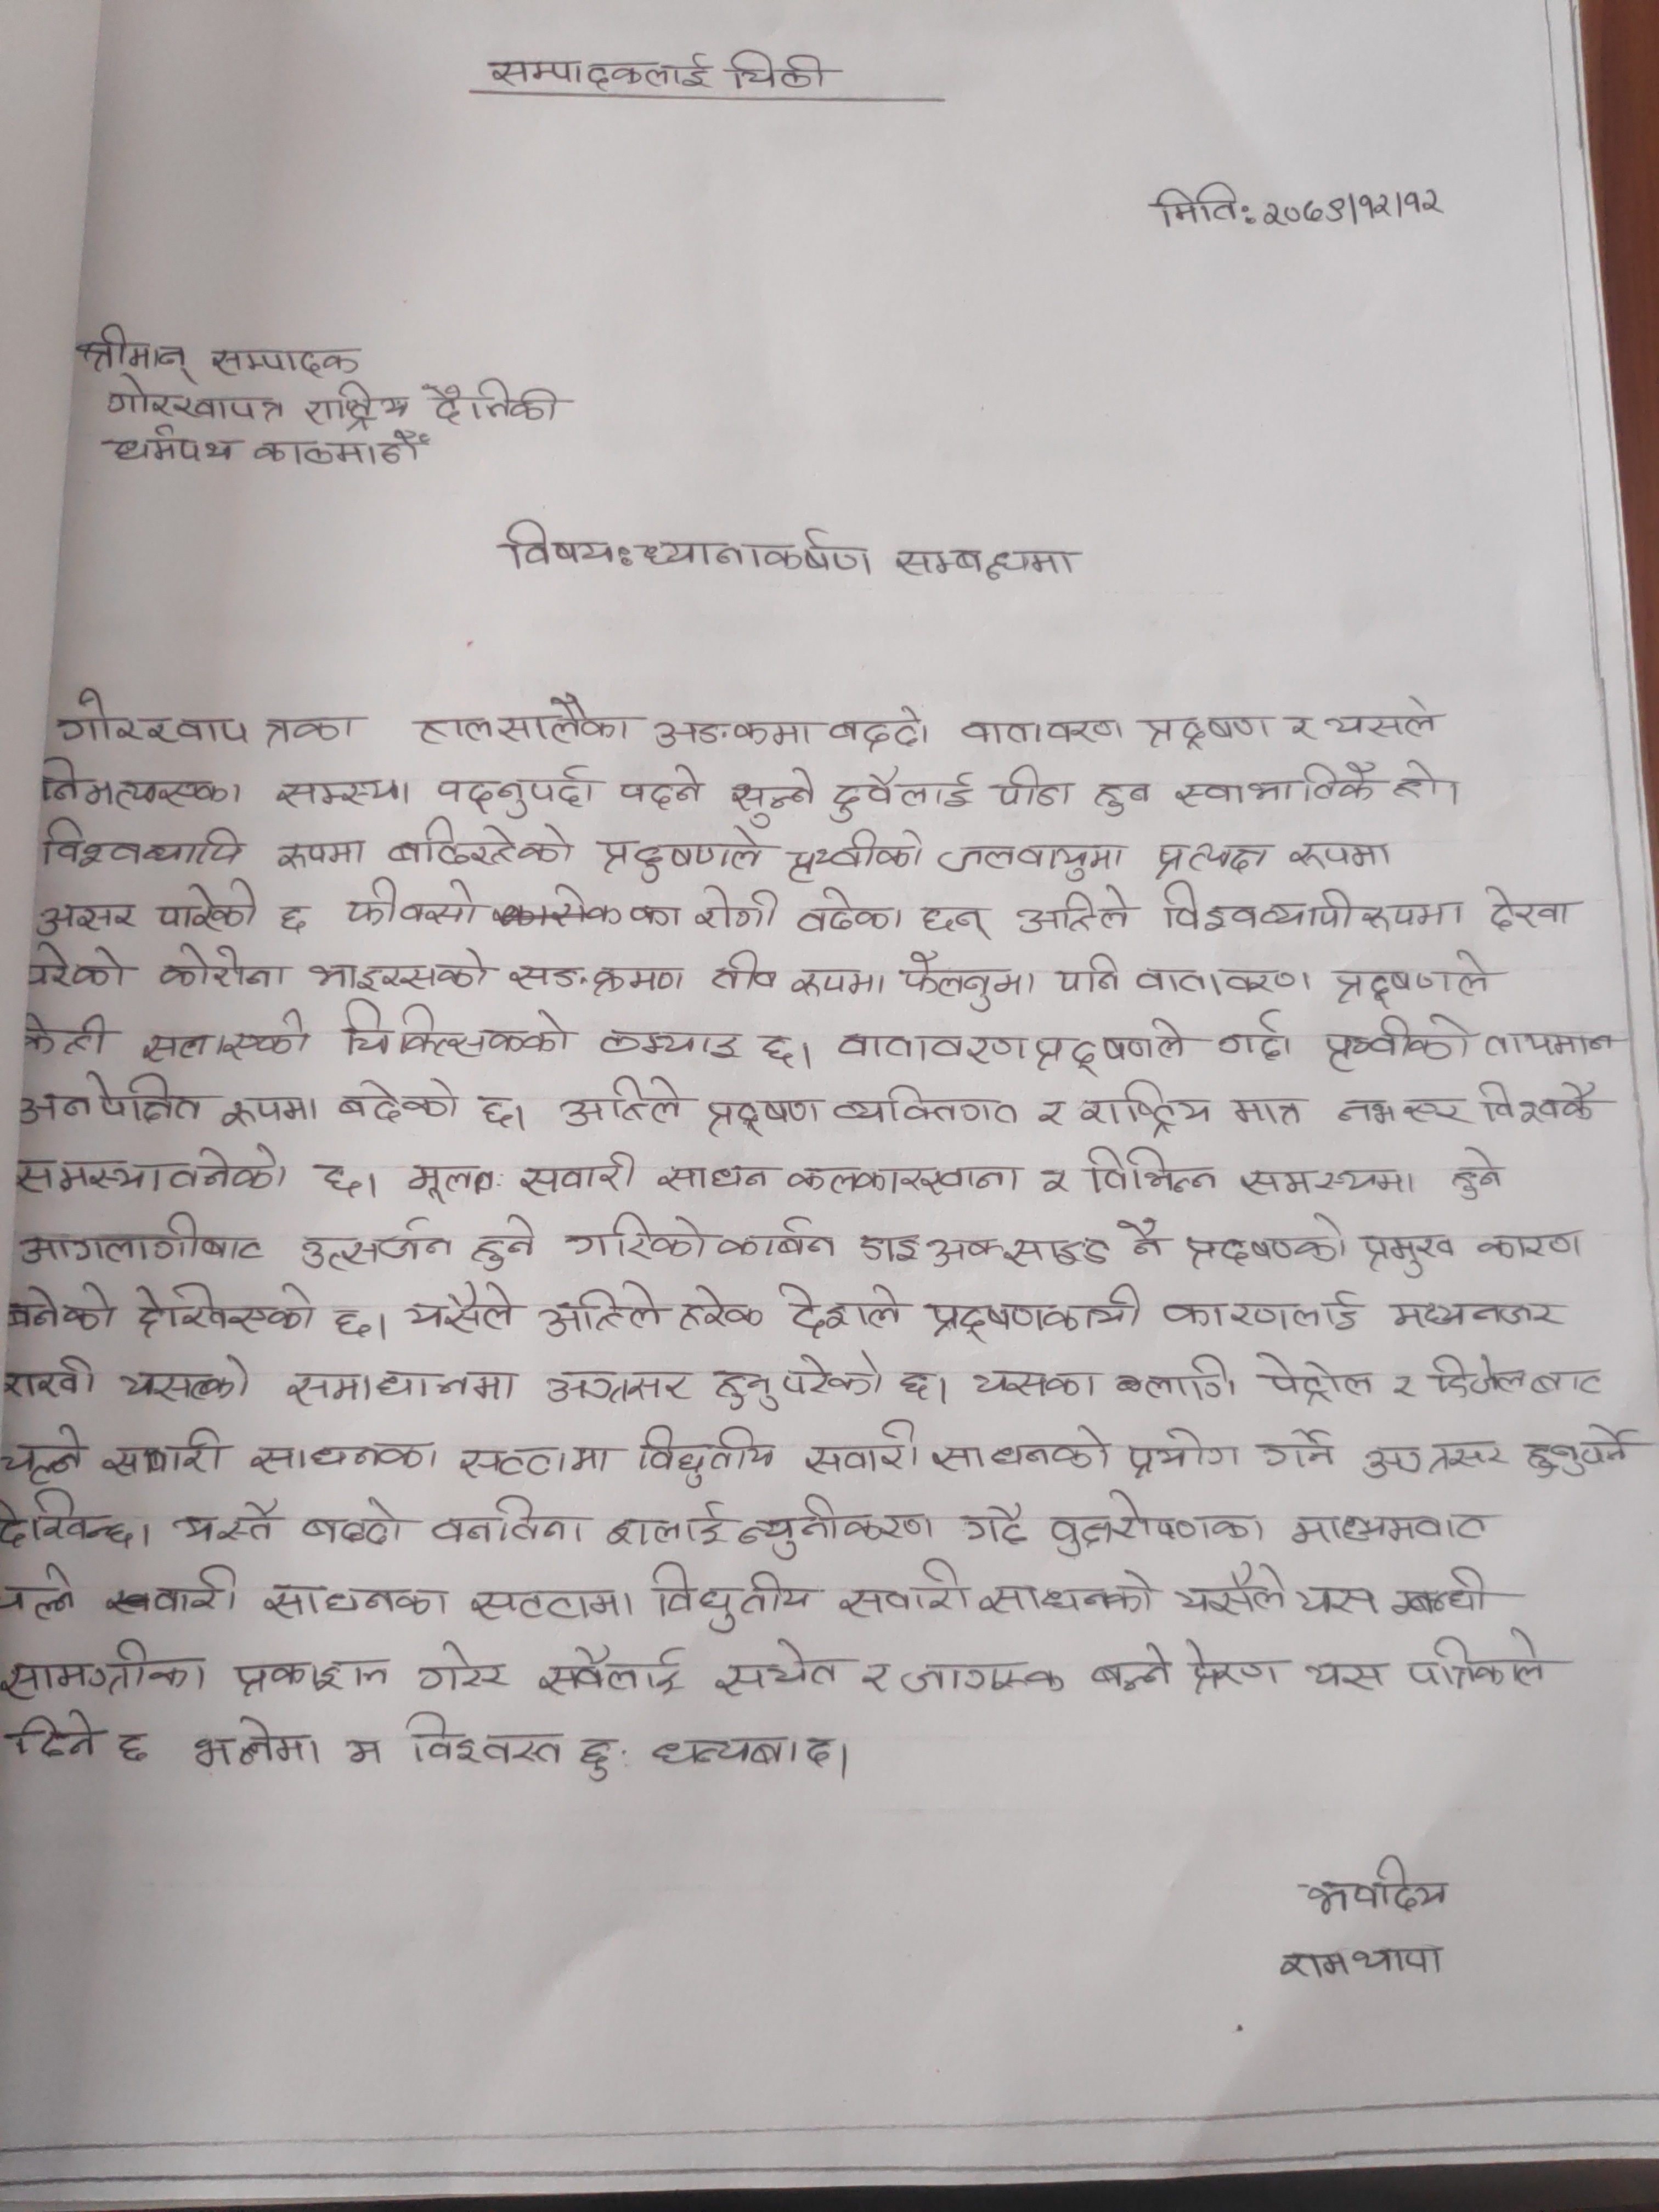text: (828, 1014, 1194, 1073), (836, 1555, 1159, 1618), (56, 686, 366, 751), (1157, 874, 1467, 932), (12, 1209, 270, 1270), (10, 1141, 291, 1197), (920, 1278, 1148, 1346), (338, 998, 577, 1062), (1049, 1489, 1272, 1557), (0, 1637, 207, 1703), (411, 690, 636, 751), (641, 523, 875, 580), (735, 1494, 938, 1559), (31, 752, 242, 813), (647, 1559, 816, 1634), (16, 1066, 206, 1130), (129, 1277, 319, 1341), (711, 1348, 889, 1416), (484, 45, 716, 96), (854, 1228, 1114, 1271), (38, 815, 247, 869), (927, 1420, 1114, 1479), (1297, 1851, 1462, 1918), (1175, 1209, 1354, 1270), (828, 1080, 1028, 1134), (1171, 756, 1377, 808), (275, 1366, 519, 1409), (1161, 1287, 1363, 1339), (784, 1157, 1026, 1200), (1403, 1627, 1553, 1696), (397, 1709, 568, 1770), (594, 824, 767, 883), (141, 1005, 314, 1064), (636, 1418, 779, 1489), (1330, 948, 1497, 1008), (432, 759, 598, 820), (101, 371, 288, 425), (1427, 1350, 1608, 1404), (1324, 1012, 1474, 1076), (295, 1216, 457, 1275), (387, 819, 577, 869), (307, 941, 493, 991), (894, 948, 1039, 1012), (1262, 181, 1445, 232), (1288, 1503, 1490, 1548), (429, 1493, 589, 1548), (1384, 1292, 1574, 1339), (0, 1487, 141, 1550), (261, 1578, 450, 1625), (246, 1432, 441, 1477), (830, 766, 974, 827), (648, 1726, 835, 1773), (192, 1714, 328, 1778), (708, 1637, 840, 1702), (538, 1641, 687, 1698), (538, 1277, 666, 1343), (1084, 1139, 1222, 1200), (887, 543, 1087, 585), (784, 824, 925, 883), (934, 838, 1126, 881), (775, 1275, 904, 1339), (1077, 1078, 1215, 1137), (1270, 1939, 1450, 1984), (798, 1416, 924, 1480), (469, 1580, 638, 1627), (1251, 1348, 1378, 1409), (1127, 956, 1312, 998), (418, 374, 561, 428), (899, 1653, 1066, 1698), (558, 1212, 708, 1263), (559, 1073, 687, 1132), (1520, 1423, 1642, 1484), (117, 1353, 254, 1407), (251, 432, 429, 474), (345, 876, 481, 930), (153, 939, 289, 993), (232, 1655, 394, 1700), (1175, 1564, 1290, 1627), (73, 320, 200, 376), (650, 712, 812, 756), (99, 1425, 230, 1479), (504, 960, 695, 996), (1014, 883, 1134, 941), (1473, 1075, 1608, 1125), (957, 711, 1124, 751), (209, 340, 368, 381), (455, 1439, 613, 1480), (336, 1073, 462, 1125), (498, 516, 615, 571), (1316, 691, 1443, 742), (401, 1278, 519, 1332), (606, 1498, 725, 1552), (699, 1090, 824, 1141), (300, 1493, 410, 1550), (1229, 1165, 1419, 1198), (1124, 1426, 1244, 1479), (1180, 1637, 1283, 1698), (540, 1367, 690, 1409), (514, 1148, 638, 1198), (716, 1211, 840, 1261), (725, 763, 816, 831), (1363, 1437, 1509, 1479), (1391, 1561, 1490, 1622), (7, 1285, 122, 1338), (173, 1498, 288, 1550), (1129, 711, 1279, 751), (1330, 1089, 1473, 1130), (789, 885, 906, 935), (598, 1024, 744, 1064), (7, 1705, 105, 1764), (19, 941, 132, 991), (2, 1421, 87, 1487), (152, 880, 263, 930), (413, 1639, 511, 1696), (1143, 1348, 1237, 1407), (824, 704, 934, 754), (152, 1559, 242, 1620), (17, 1005, 113, 1062), (1474, 881, 1579, 934), (1358, 1228, 1464, 1278), (105, 425, 242, 463), (305, 381, 413, 430), (728, 44, 830, 94), (274, 773, 413, 810), (1091, 1637, 1175, 1698), (1483, 1024, 1622, 1059), (964, 1364, 1103, 1399), (3, 1350, 99, 1400), (1150, 179, 1243, 232), (31, 897, 141, 941), (0, 1561, 78, 1622), (615, 759, 706, 812), (694, 880, 782, 932), (1150, 840, 1270, 878), (213, 1090, 322, 1132), (676, 1282, 767, 1332), (404, 1160, 498, 1207), (1213, 1008, 1295, 1062), (655, 1157, 770, 1195), (465, 1214, 544, 1270), (993, 763, 1073, 817), (1473, 1230, 1588, 1266), (1258, 1423, 1344, 1472), (1293, 1578, 1384, 1622), (1445, 1143, 1511, 1202), (784, 961, 885, 1000), (706, 946, 784, 995), (1227, 1089, 1309, 1134), (1284, 840, 1394, 871), (272, 834, 369, 869), (1054, 951, 1124, 1000), (958, 1505, 1033, 1550), (1300, 1658, 1389, 1695), (918, 900, 995, 942), (1115, 1209, 1175, 1263), (1392, 758, 1445, 808), (1091, 777, 1154, 817), (572, 1733, 617, 1787), (314, 1157, 364, 1202), (627, 895, 685, 930), (328, 1299, 375, 1341), (108, 1726, 155, 1768), (338, 1733, 385, 1775), (756, 1028, 798, 1069), (854, 1653, 894, 1695), (474, 1096, 519, 1130), (894, 1364, 939, 1399), (1037, 1094, 1072, 1137), (275, 899, 314, 937), (1033, 1163, 1073, 1195), (1290, 707, 1314, 747), (1389, 1367, 1413, 1406)
